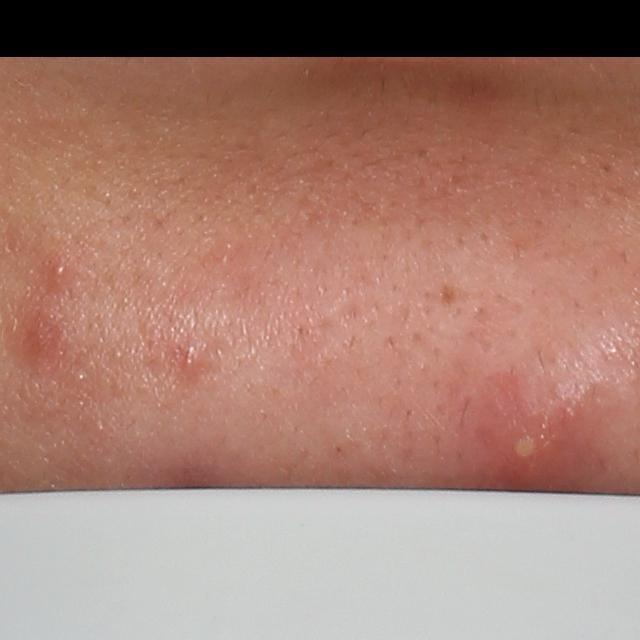papule: (21, 314, 62, 362), (176, 339, 212, 377), (45, 256, 75, 290)
pustule: (492, 389, 585, 488)
